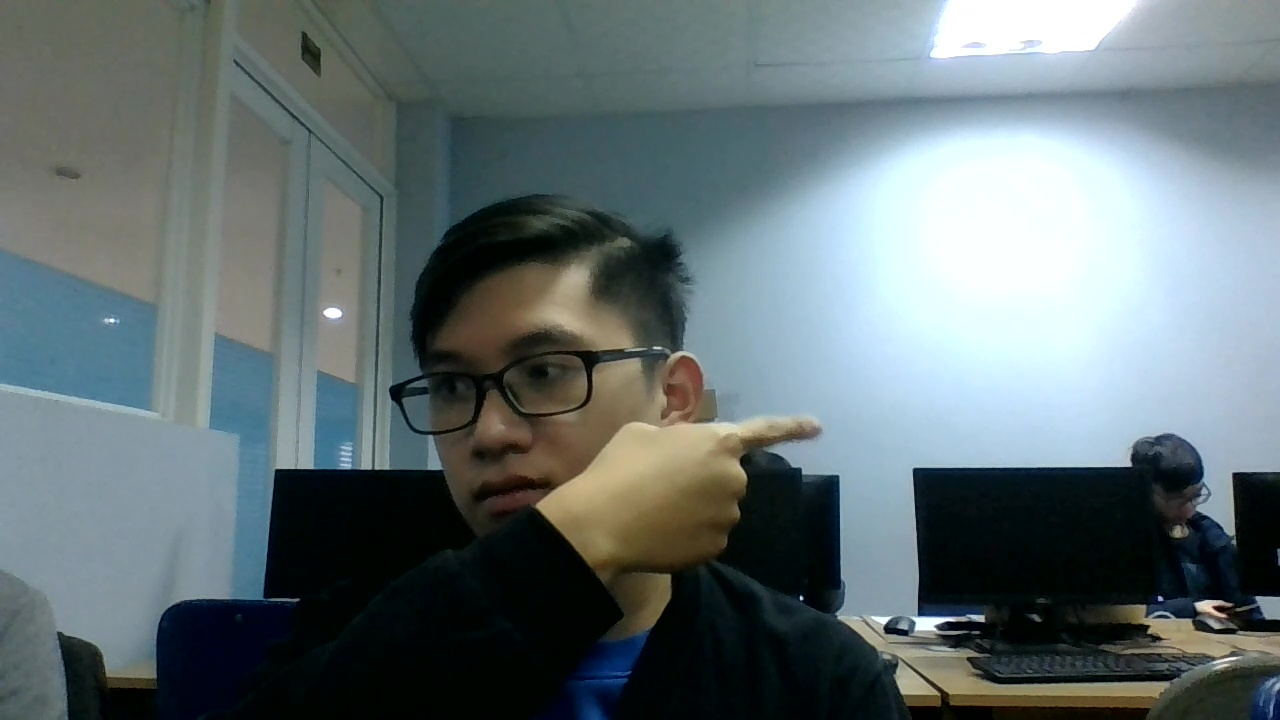left: (570, 405, 833, 575)
